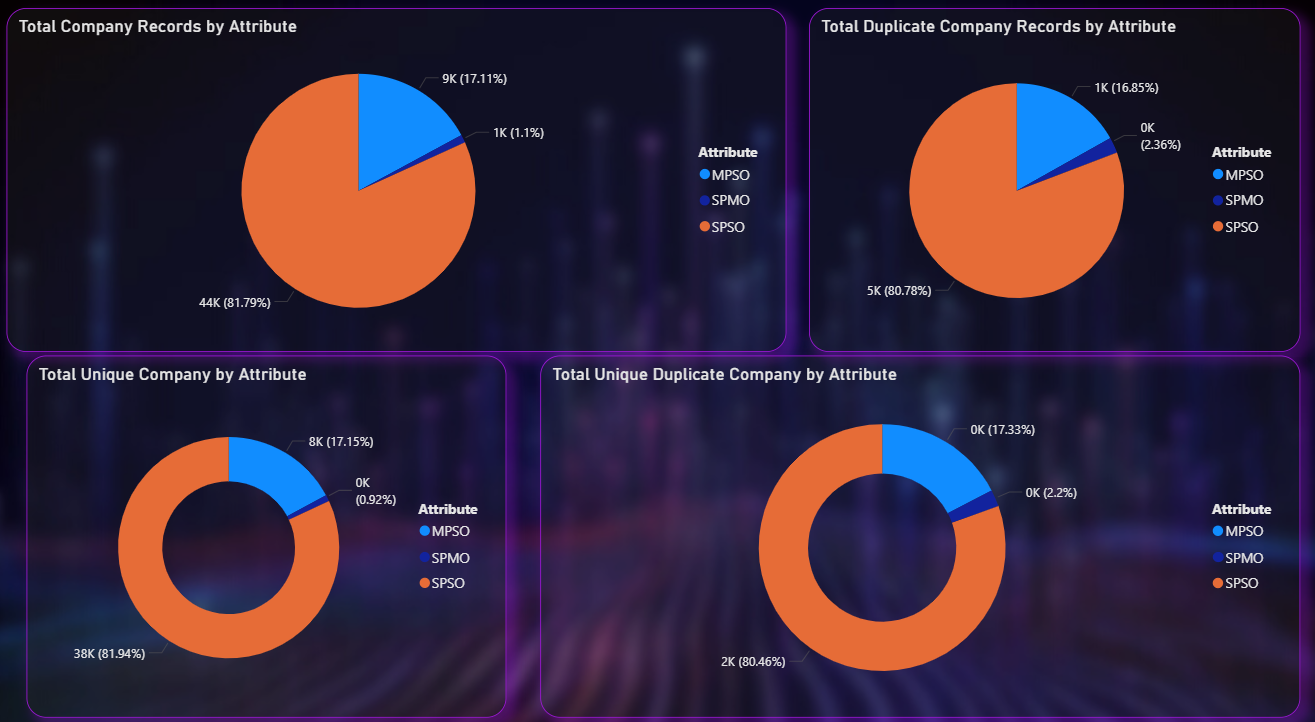

The dashboard page shown, as its layout file describes it:
{"tool":"powerbi","page":{"name":"Page 2","canvas":[1280,720],"ordinal":1},"visuals":[{"type":"pieChart","fields":{"Series":["sabeel2912 table_3.Attribute"],"Y":["Sum(sabeel2912 table_3.Total_Company_Records)"]},"box":[12.1,14.5,752.8,331.8],"z":0},{"type":"pieChart","fields":{"Series":["sabeel2912 table_3.Attribute"],"Y":["Sum(sabeel2912 table_3.Duplicate_Company_Records)"]},"box":[786.6,14.5,474.1,331.8],"z":1000},{"type":"donutChart","fields":{"Series":["sabeel2912 table_3.Attribute"],"Y":["Sum(sabeel2912 table_3.Total_Unique_Duplicate_Company)"]},"box":[527.2,349.9,733.5,349.9],"z":2000},{"type":"donutChart","fields":{"Series":["sabeel2912 table_3.Attribute"],"Y":["Sum(sabeel2912 table_3.Total_Unique_Company)"]},"box":[31.4,349.9,463.3,349.9],"z":3000}]}

Visuals, with their boxes in screenshot pixels (x1, y1, x2, y2), scaled from the page's 1280x720 canvas onto the 1315x722 screenshot:
pieChart - sabeel2912 table_3.Attribute x Sum(sabeel2912 table_3.Total_Company_Records): x1=12, y1=15, x2=786, y2=347
pieChart - sabeel2912 table_3.Attribute x Sum(sabeel2912 table_3.Duplicate_Company_Records): x1=808, y1=15, x2=1295, y2=347
donutChart - sabeel2912 table_3.Attribute x Sum(sabeel2912 table_3.Total_Unique_Duplicate_Company): x1=542, y1=351, x2=1295, y2=702
donutChart - sabeel2912 table_3.Attribute x Sum(sabeel2912 table_3.Total_Unique_Company): x1=32, y1=351, x2=508, y2=702
